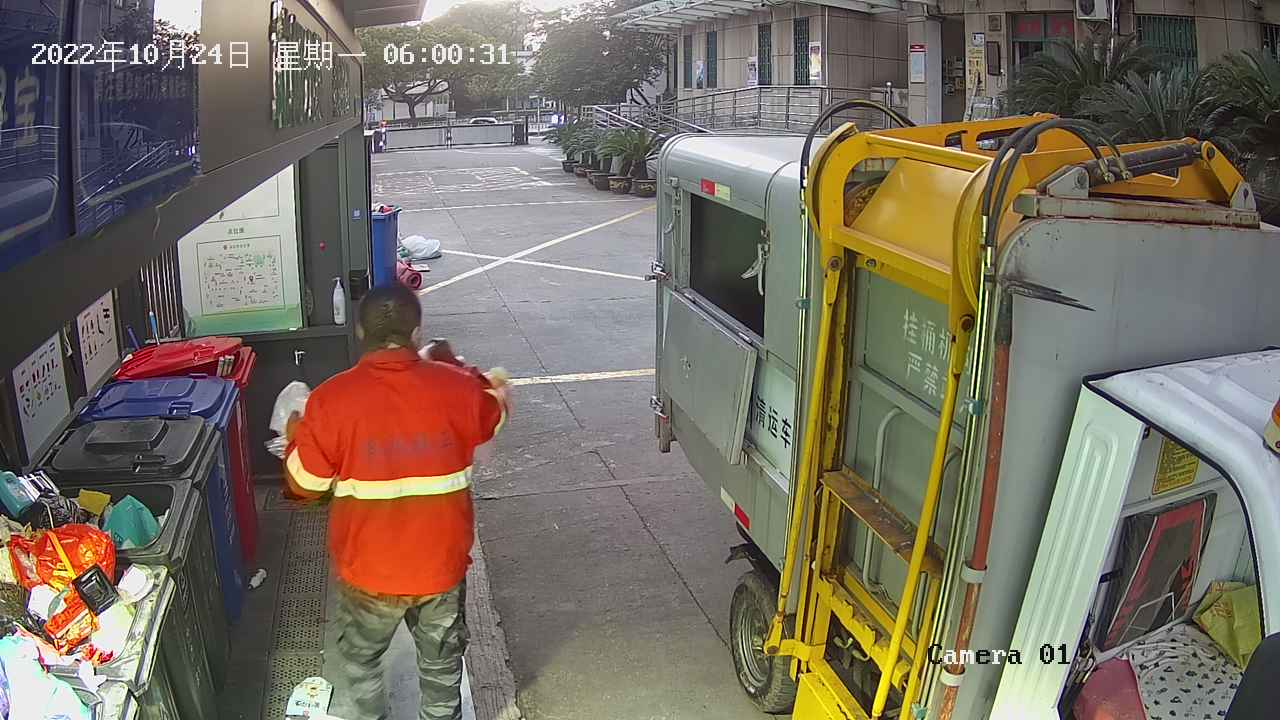suliaozhipin: (261, 378, 311, 460), (285, 672, 335, 720)
worker: (280, 278, 513, 720)
